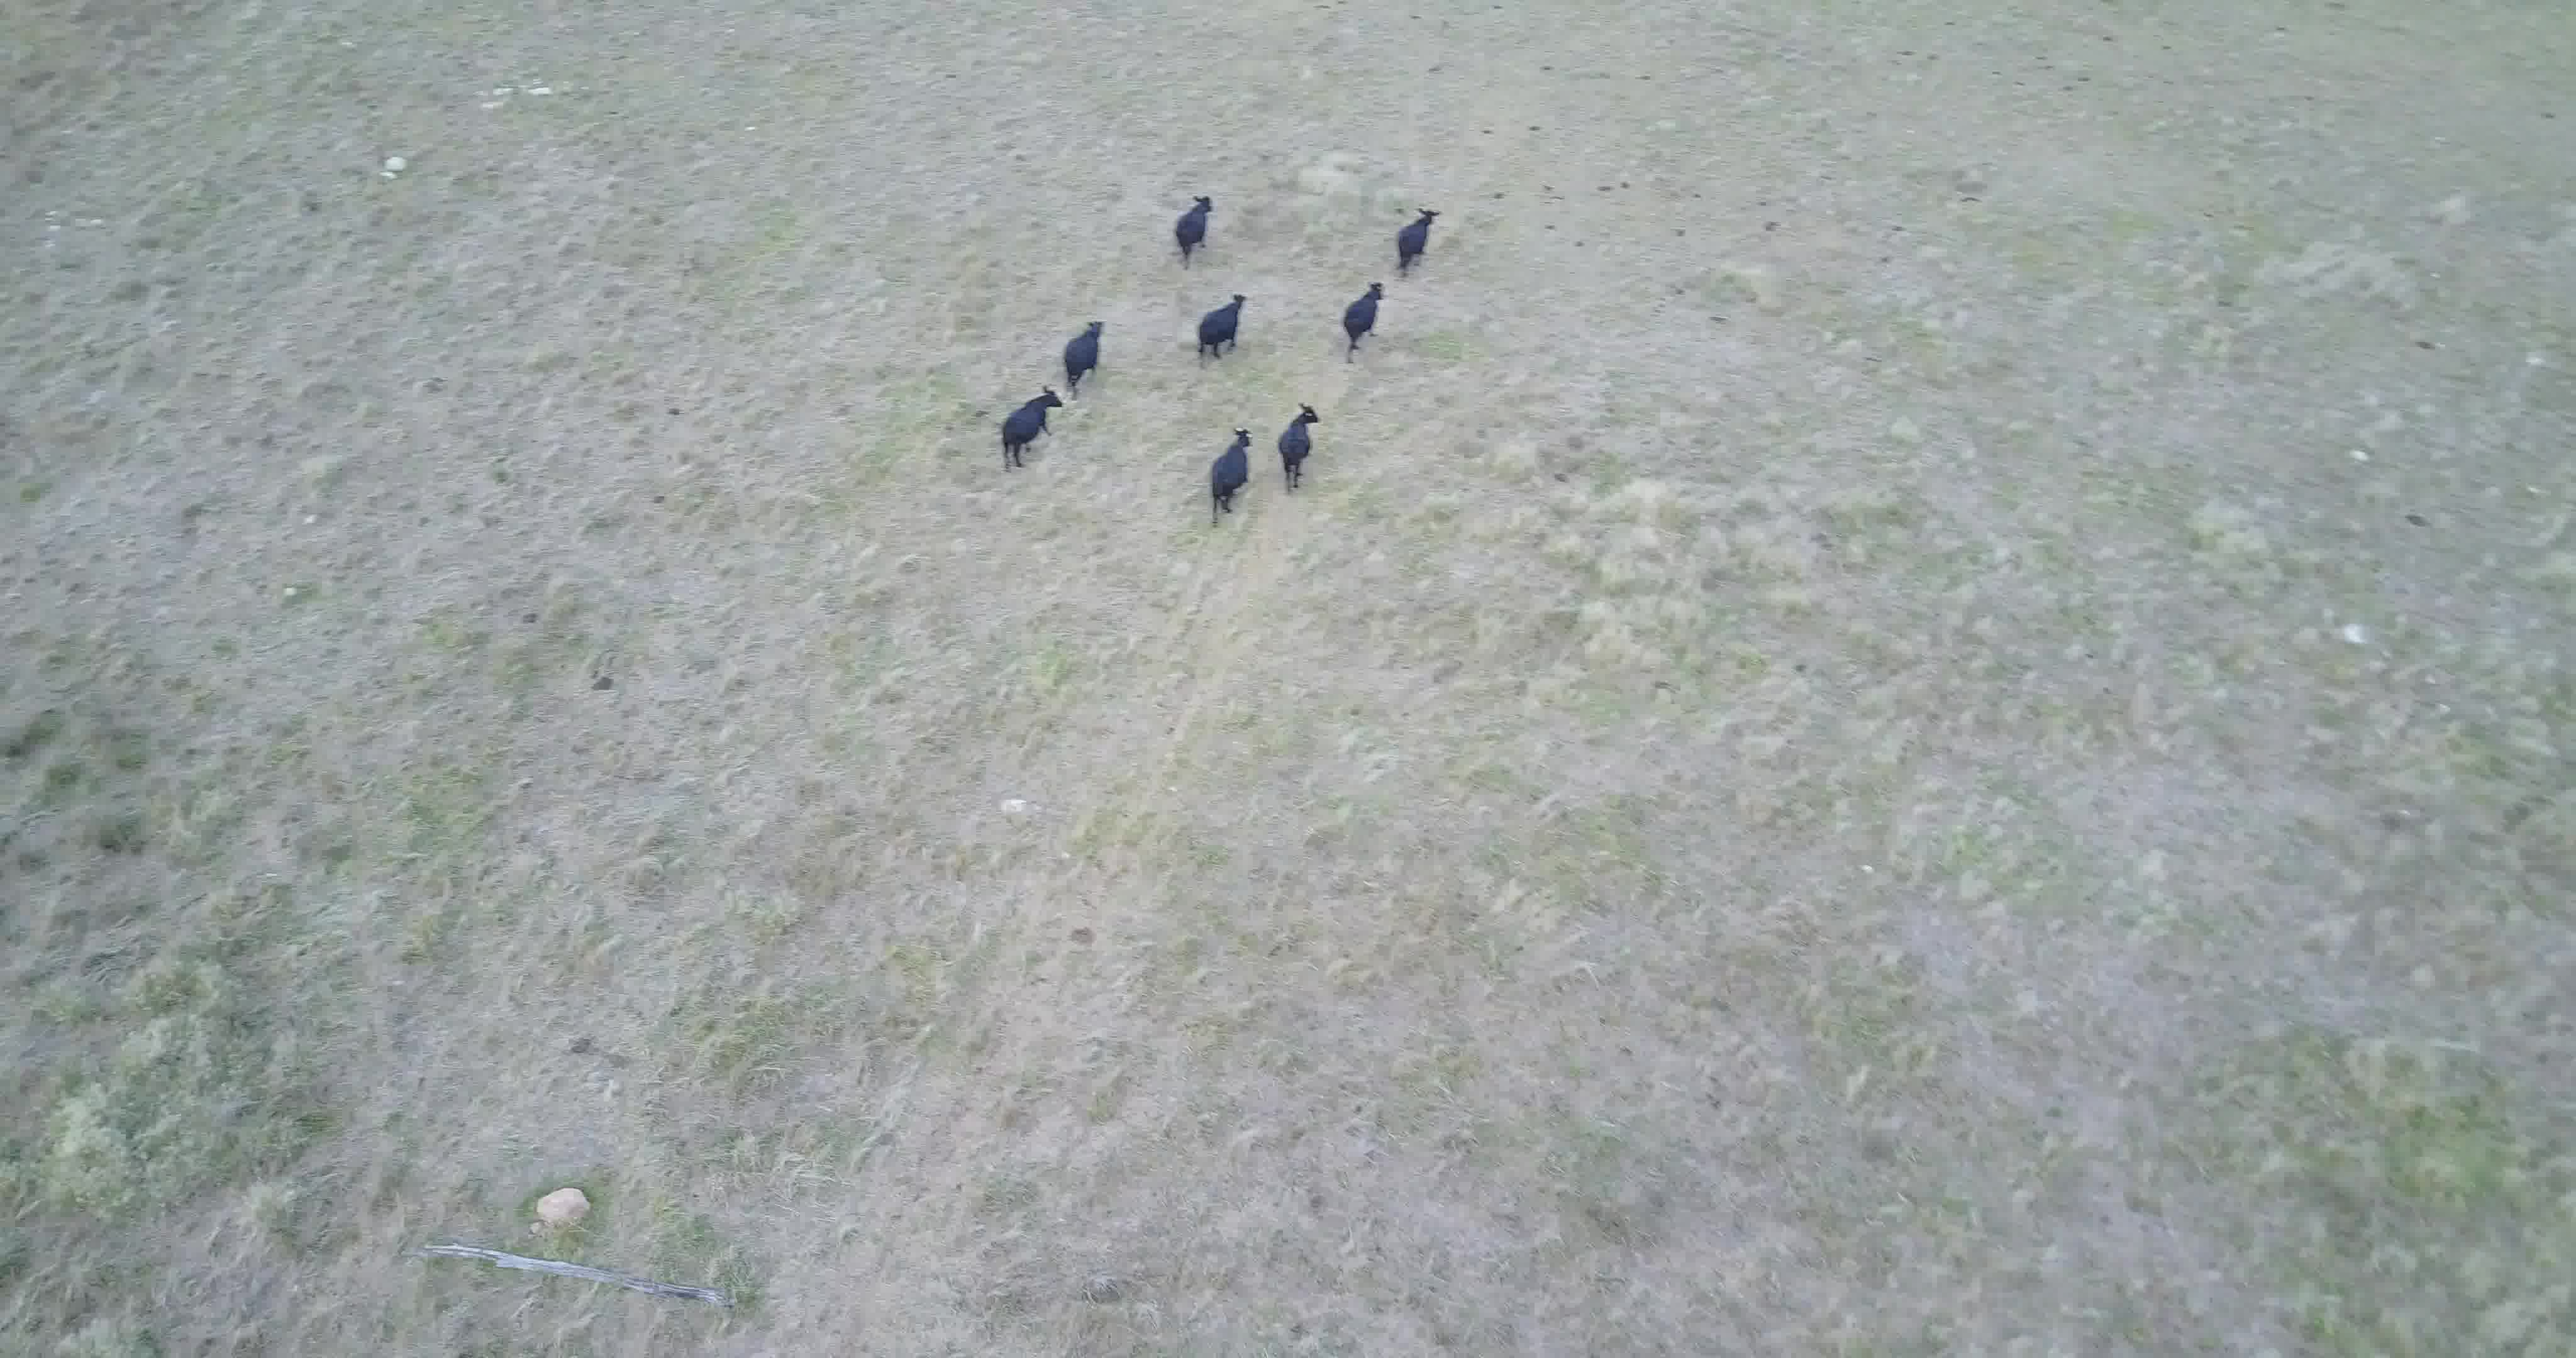cattle: (1205, 424, 1261, 530), (1000, 385, 1063, 477), (1274, 400, 1322, 501), (1194, 291, 1249, 370), (1341, 281, 1389, 365), (1392, 203, 1441, 281), (1061, 319, 1107, 400), (1170, 193, 1216, 271)
